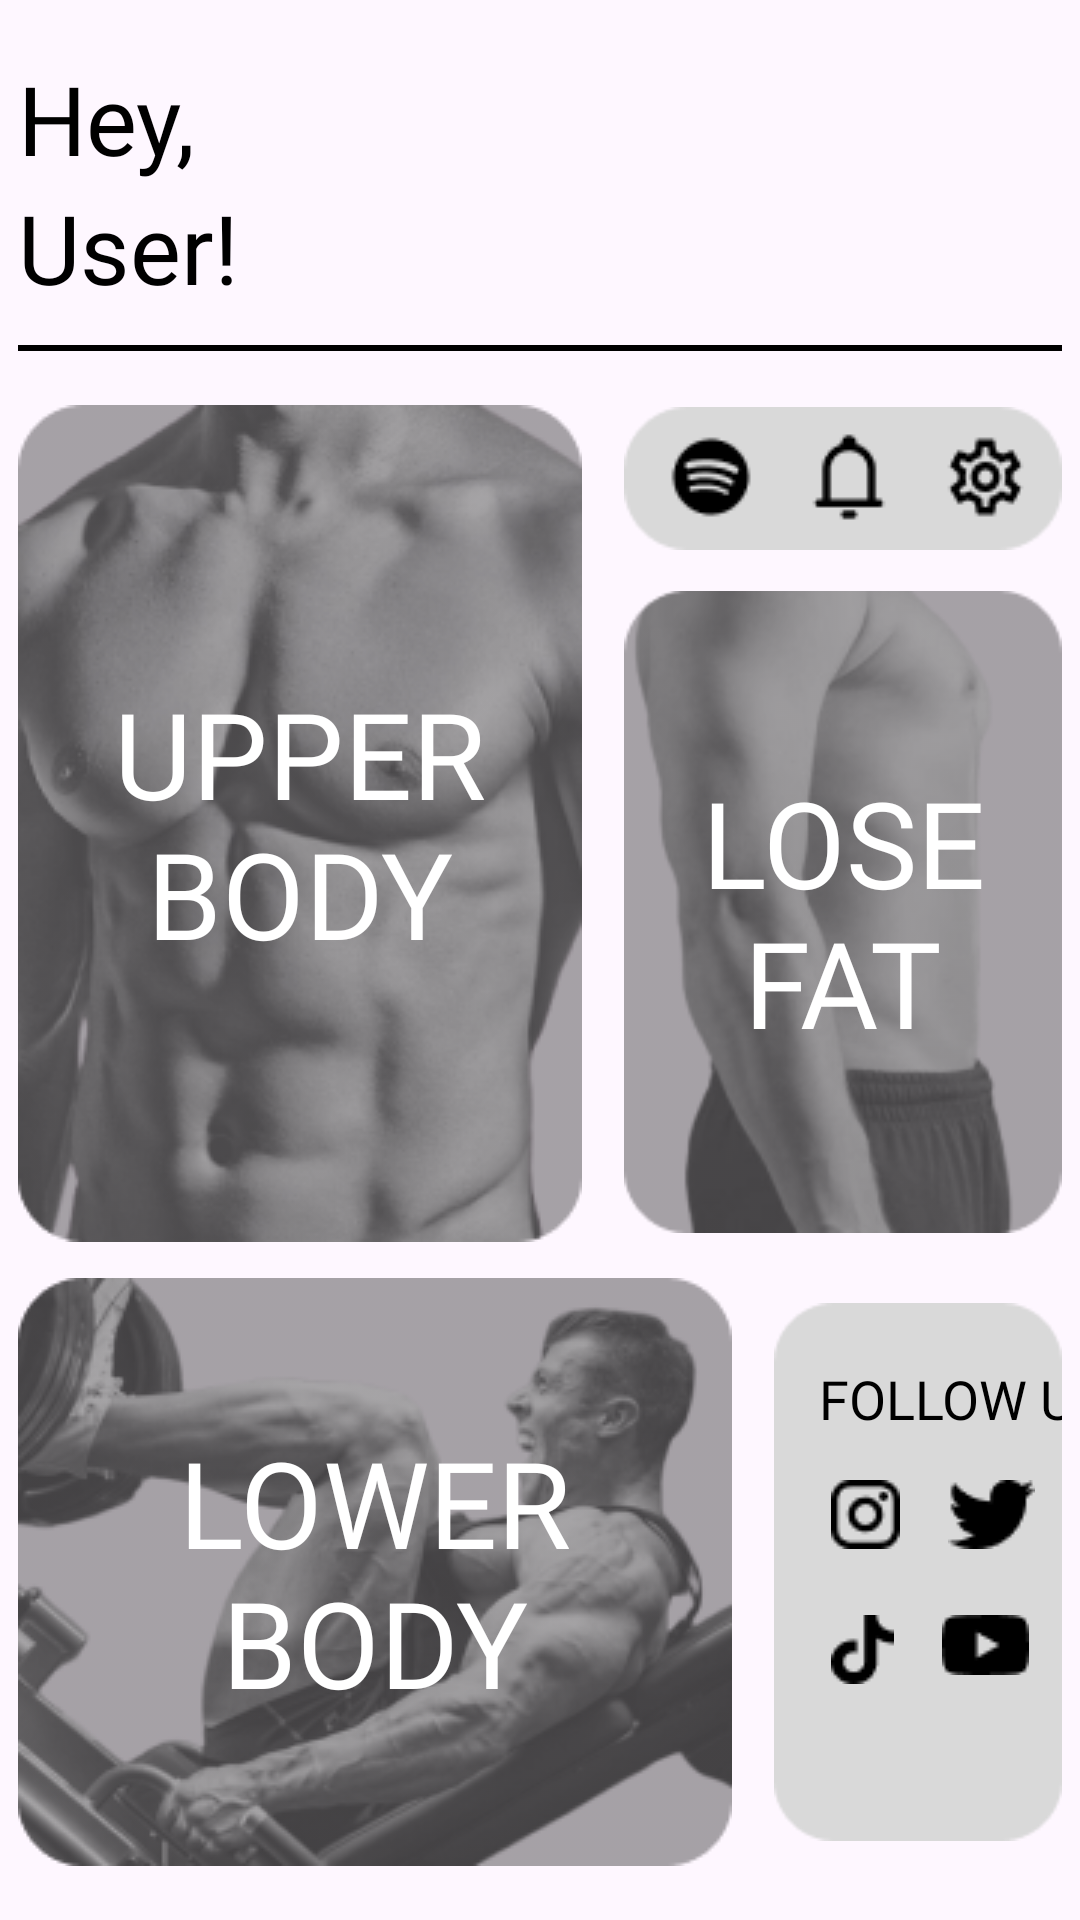

Icons on this 1080 × 1920 Android screen, each with the point to tap as [x,y]:
notification: [849,477]
settings: [985,477]
